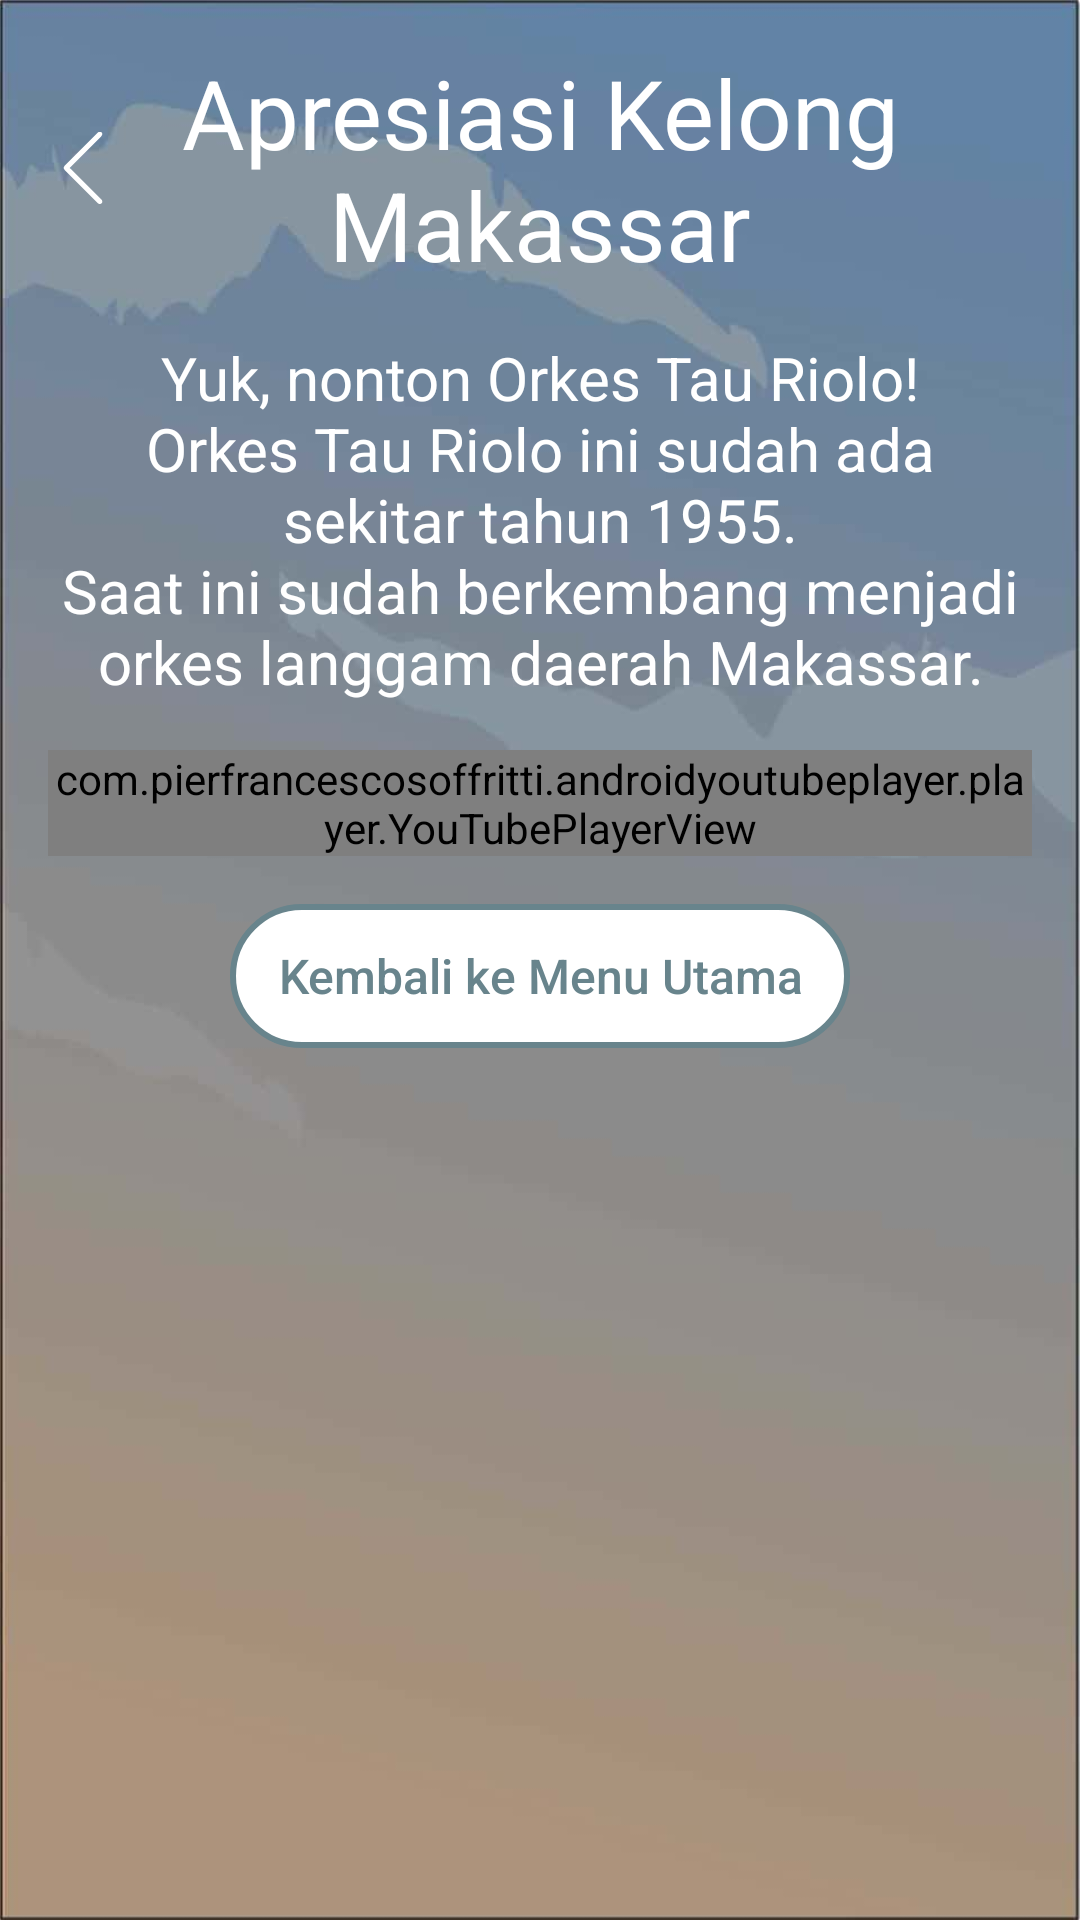

Named icons in this screenshot (1080*1920) and their centers, (x=x, y=y):
back: (x=78, y=168)
